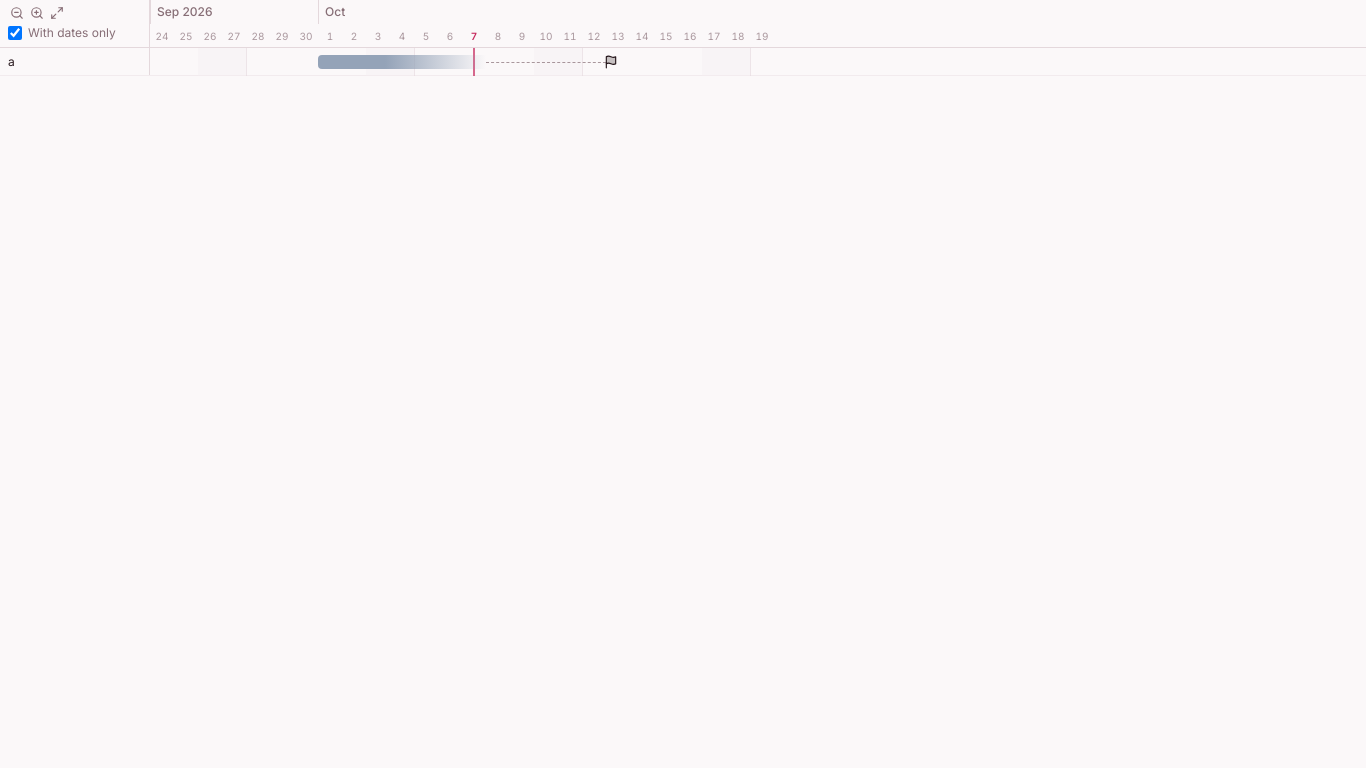
the view › where the organization keeps deadlines › changes the deadline from the flag, without selecting the row or opening its dates
Click the button named "Deadline 2026-10-12. Change" at coordinates (611, 62), box left=603, top=54, right=619, bottom=70
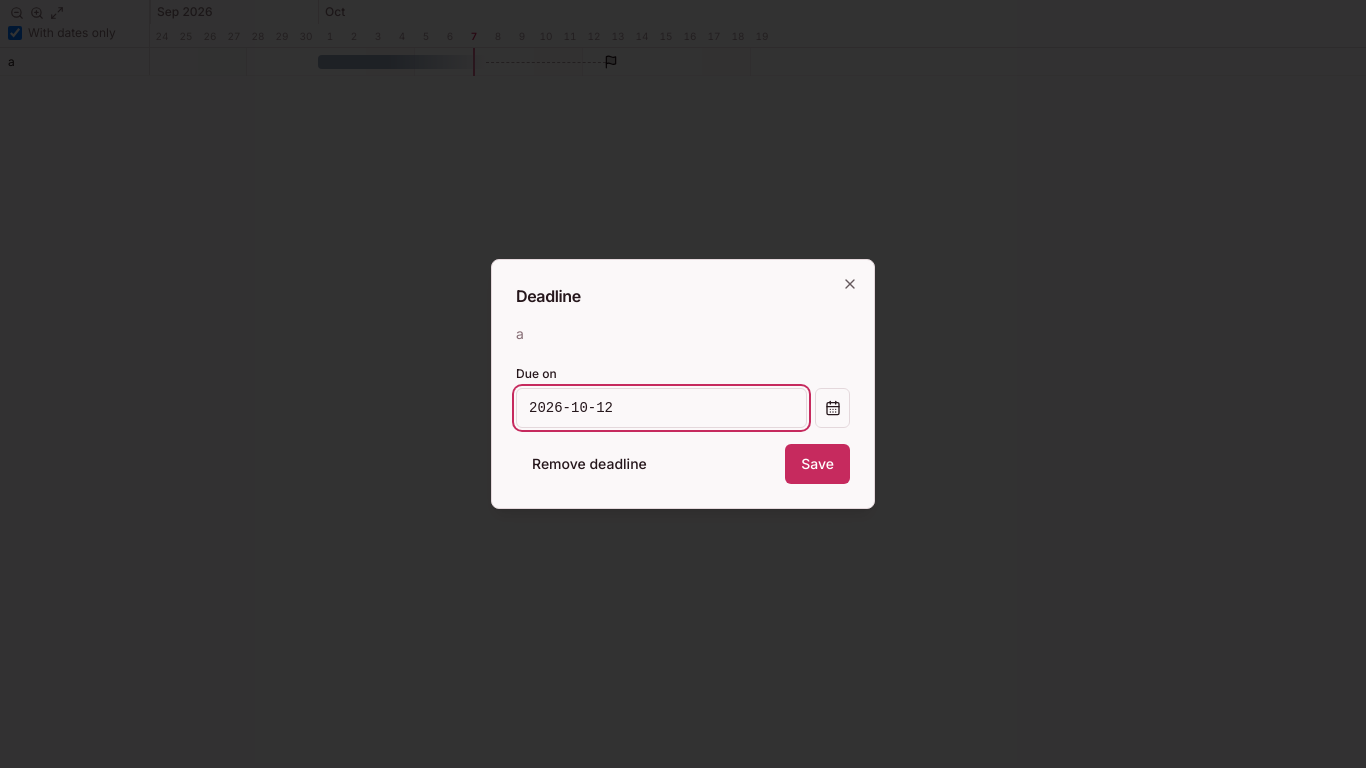
Now the field labelled "Due on" holds "2026-10-12", box left=516, top=388, right=807, bottom=428
